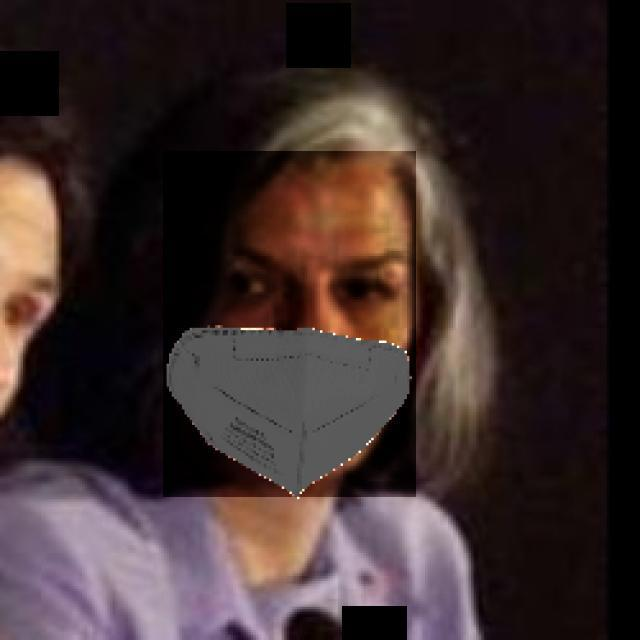kn95: (163, 151, 416, 497)
